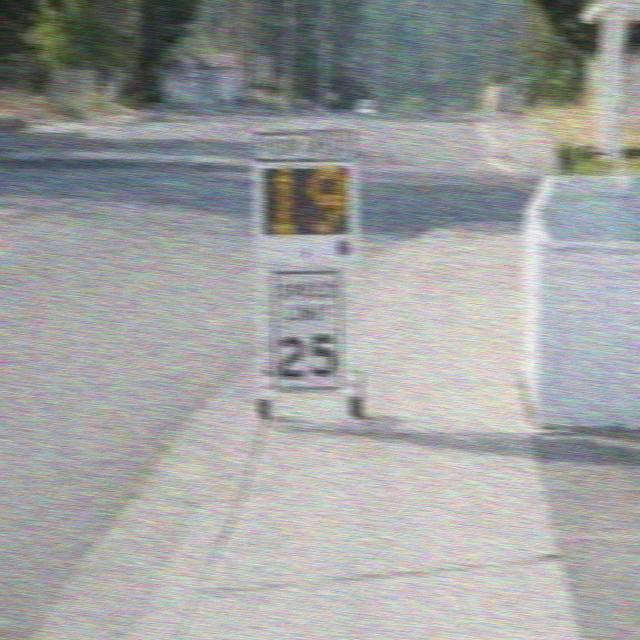speedLimit25: (273, 269, 340, 384)
